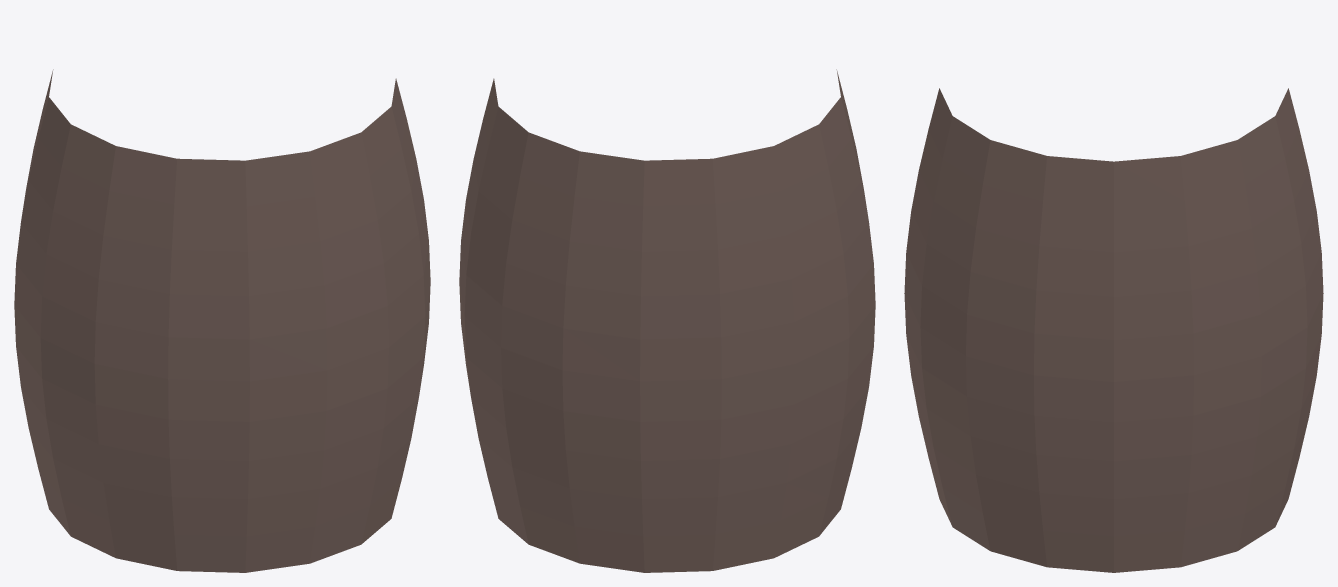
Rendered from barrel.ol.glb.
The picture shows the model from 3 angles, left to right: view 1: azimuth 30°, elevation 25°; view 2: azimuth 150°, elevation 25°; view 3: azimuth 270°, elevation 25°; orthographic projection.
Bounding box in the file's own units: 1.24 × 1.34 × 1.24.
